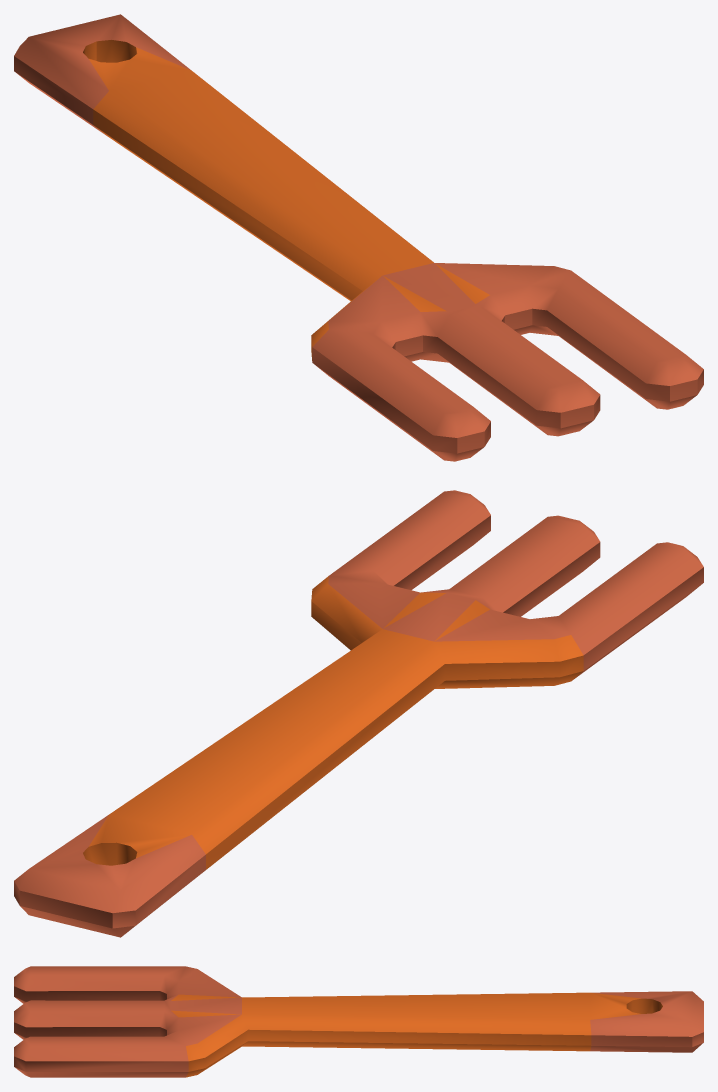
Rendered from garfo_salada_natal_pacote.glb.
The picture shows the model from 3 angles, top to bottom: view 1: azimuth 30°, elevation 25°; view 2: azimuth 150°, elevation 25°; view 3: azimuth 270°, elevation 25°; orthographic projection. The views are drawn at different scales.
Visible parts, largest first — view 1: garfo_salada_natal_pacote; view 2: garfo_salada_natal_pacote; view 3: garfo_salada_natal_pacote.
Part boxes in pixels (box(x1,y1,x2,y2)): garfo_salada_natal_pacote: box(14, 14, 703, 461); garfo_salada_natal_pacote: box(14, 490, 703, 937); garfo_salada_natal_pacote: box(14, 966, 703, 1077).
Bounding box in the file's own units: 0.0628 × 0.0106 × 0.2049.
Materials: 1 (1 with a texture image).
